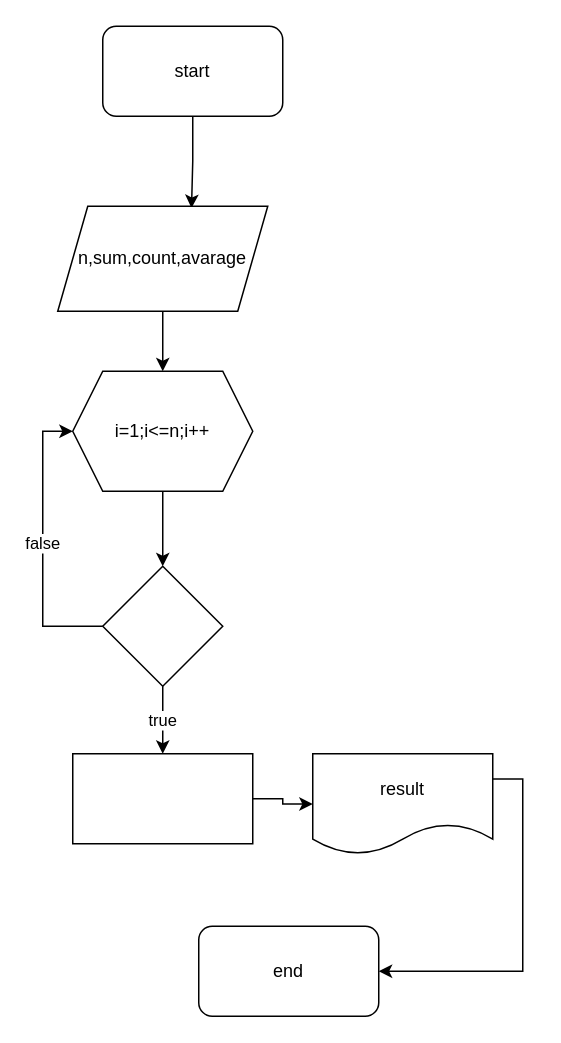
The diagram is 561 pixels wide and 1043 high, and some of its shapes have lost their labels. Here are the shapes that lost their labels. From the top down, the centre of each, then its label:
the point at 162,625: i%2==0
the point at 162,798: sum+=i count++ avarage=sum/count
